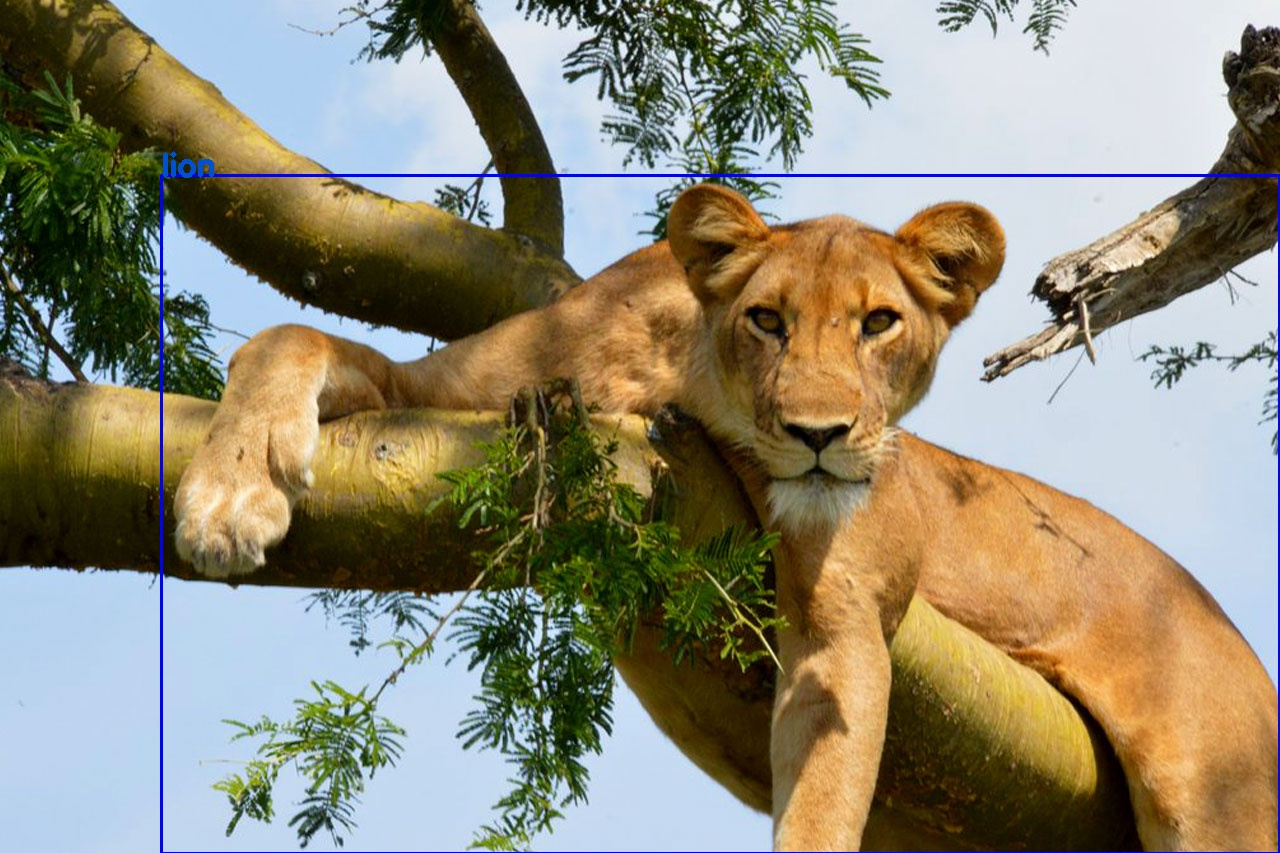lion: (161, 174, 1278, 853)
